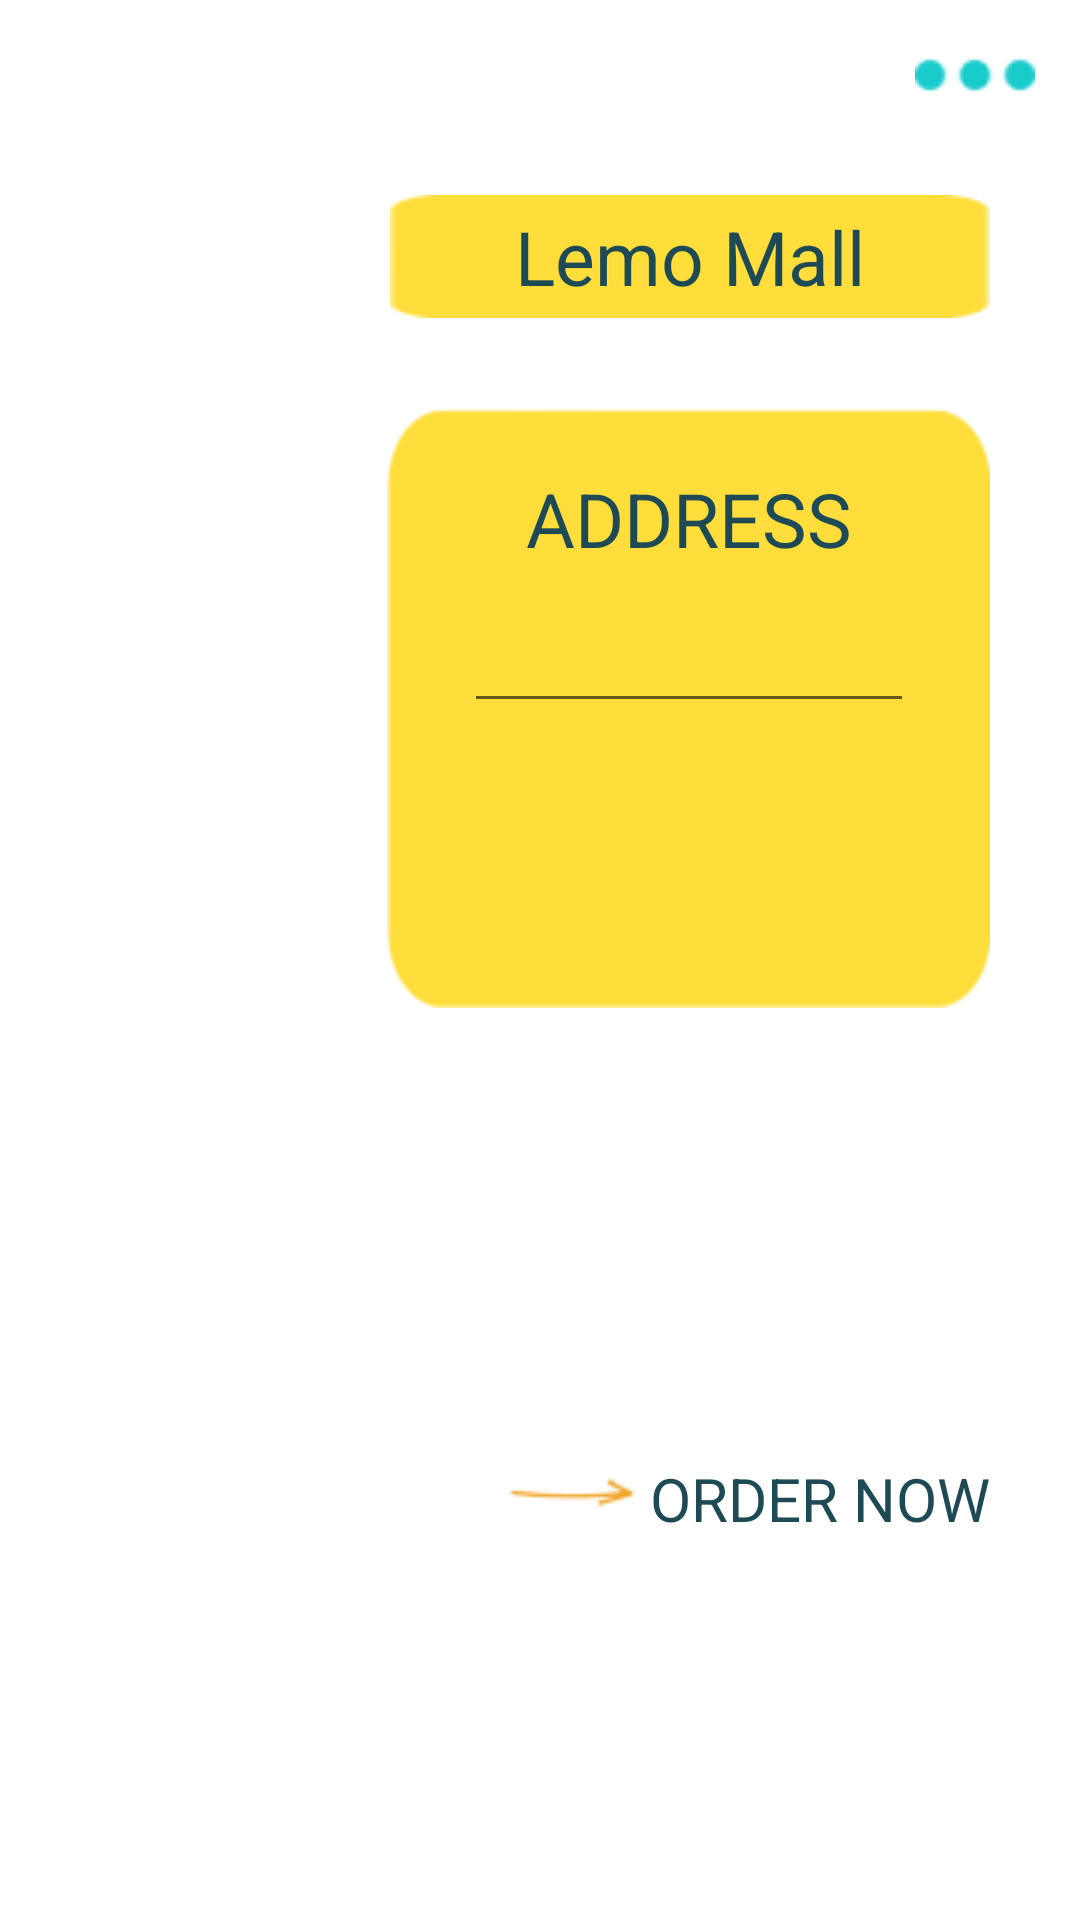

Point at icon controls on the screen. Image size 1080x1920, points as (x=x, y=y).
more option: (x=975, y=75)
